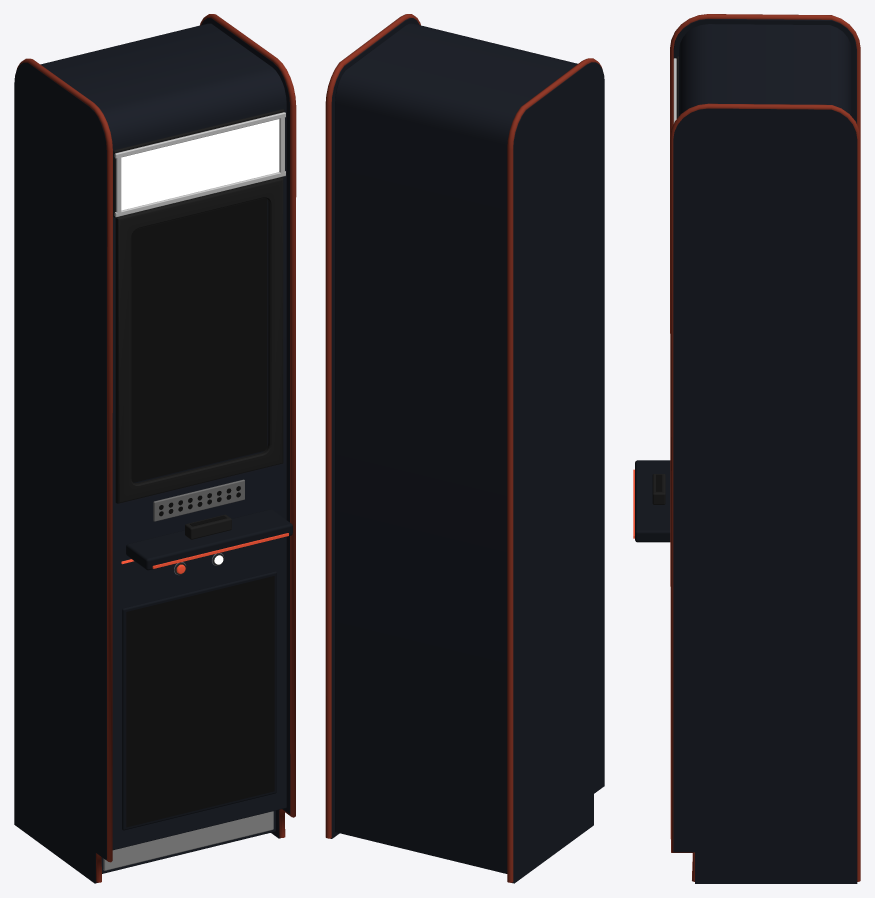
The model's file is mach-briefly.glb.
The picture shows the model from 3 angles, left to right: view 1: azimuth 30°, elevation 25°; view 2: azimuth 150°, elevation 25°; view 3: azimuth 270°, elevation 25°; orthographic projection.
Parts seen in each view (by area): view 1: side_art_l, body, screen, front_art, glass, controls, trim, marquee, metal, speaker; view 2: body, side_art_l, trim; view 3: side_art_r, body, trim, controls.
Boxes of the visible parts, <box> form: side_art_l: <box>14,62,106,883</box>; body: <box>27,18,290,883</box>; screen: <box>131,198,267,482</box>; front_art: <box>126,576,274,827</box>; glass: <box>132,198,268,483</box>; controls: <box>113,109,292,570</box>; trim: <box>17,14,296,882</box>; marquee: <box>121,119,279,210</box>; metal: <box>103,112,285,870</box>; speaker: <box>153,479,244,521</box>; body: <box>330,18,591,883</box>; side_art_l: <box>514,62,604,883</box>; trim: <box>325,14,602,882</box>; side_art_r: <box>673,108,857,883</box>; body: <box>673,19,856,126</box>; trim: <box>670,14,860,881</box>; controls: <box>633,56,678,542</box>.
Size of the model in its own units: 0.503 by 1.96 by 0.5185.
